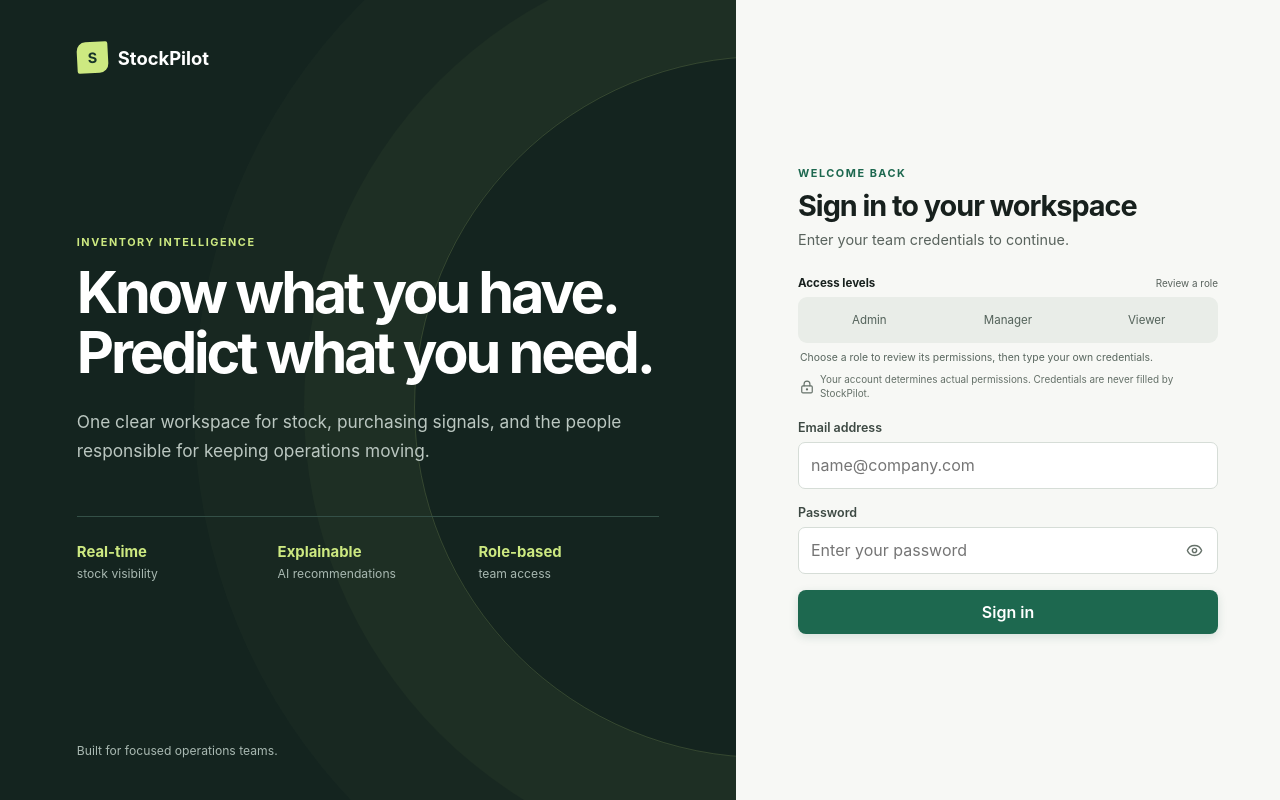
Test: Login › keeps credentials empty while letting users review role permissions
Expected: the field labelled "Email address" is empty, 798,442 -> 1218,489
Expected: the password field labelled "Password" is empty, 798,527 -> 1218,574
Click the button "Manager".
click(1008, 320)  # box 941,301 -> 1075,339
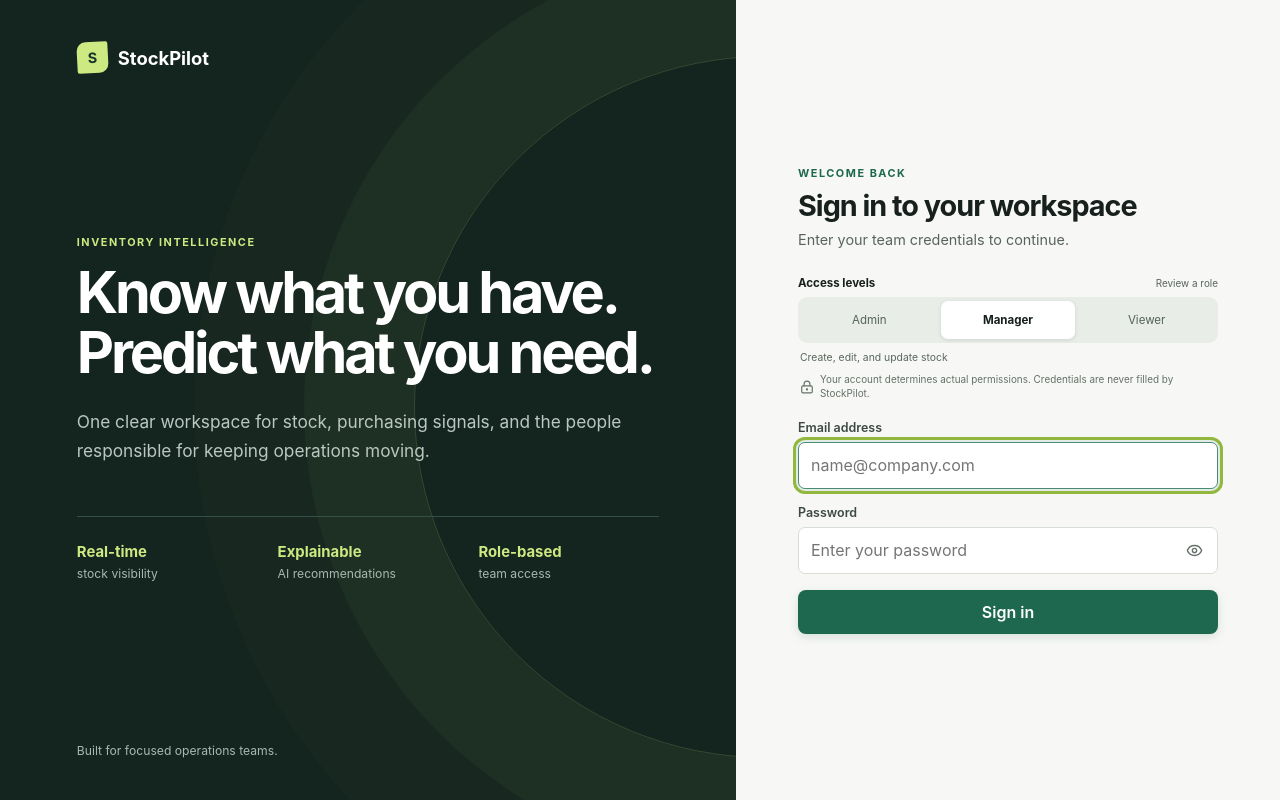
Expected: the field labelled "Email address" is empty, 798,442 -> 1218,489
Expected: the text "Create, edit, and update stock" is shown, 800,351 -> 948,364
Type "Private123!" into the password field labelled "Password".
click(1008, 550); type("Private123!")  # box 798,527 -> 1218,574
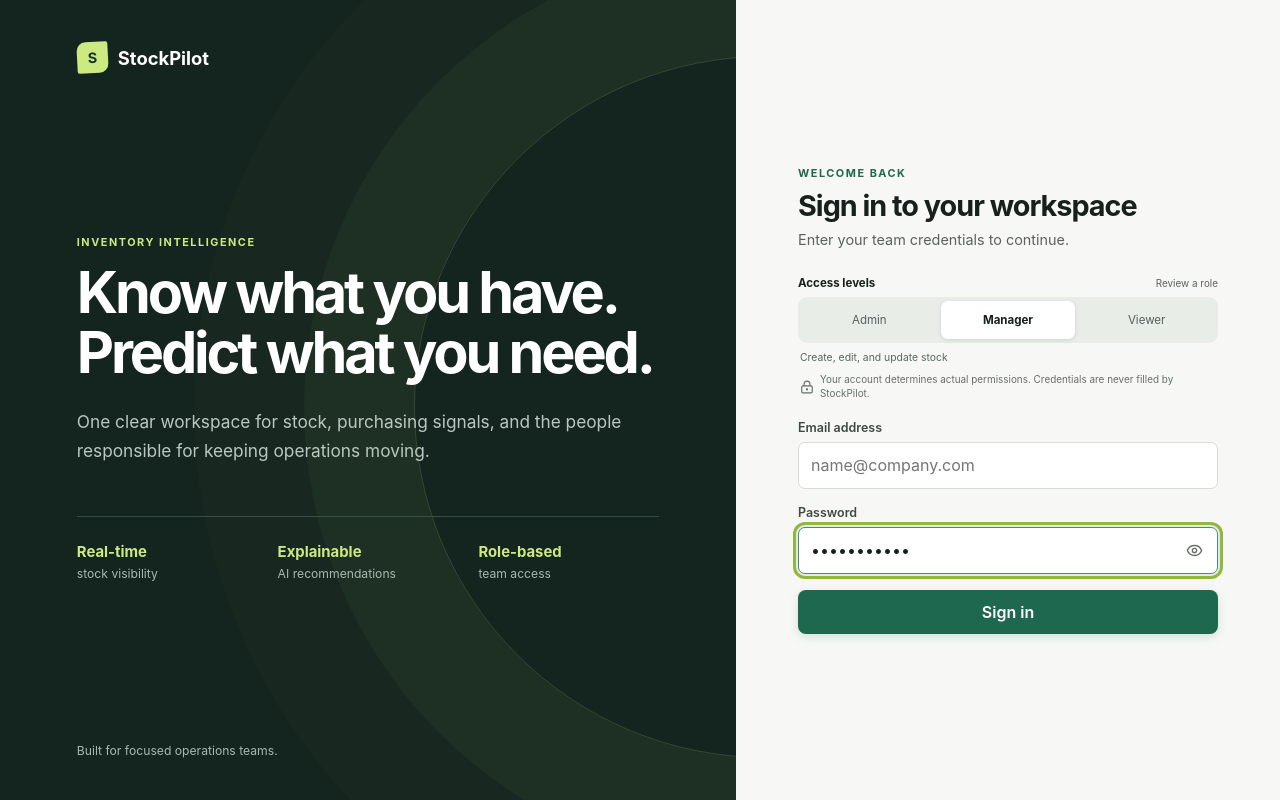
Click the button named "Show password".
click(1194, 551)  # box 1176,533 -> 1212,569
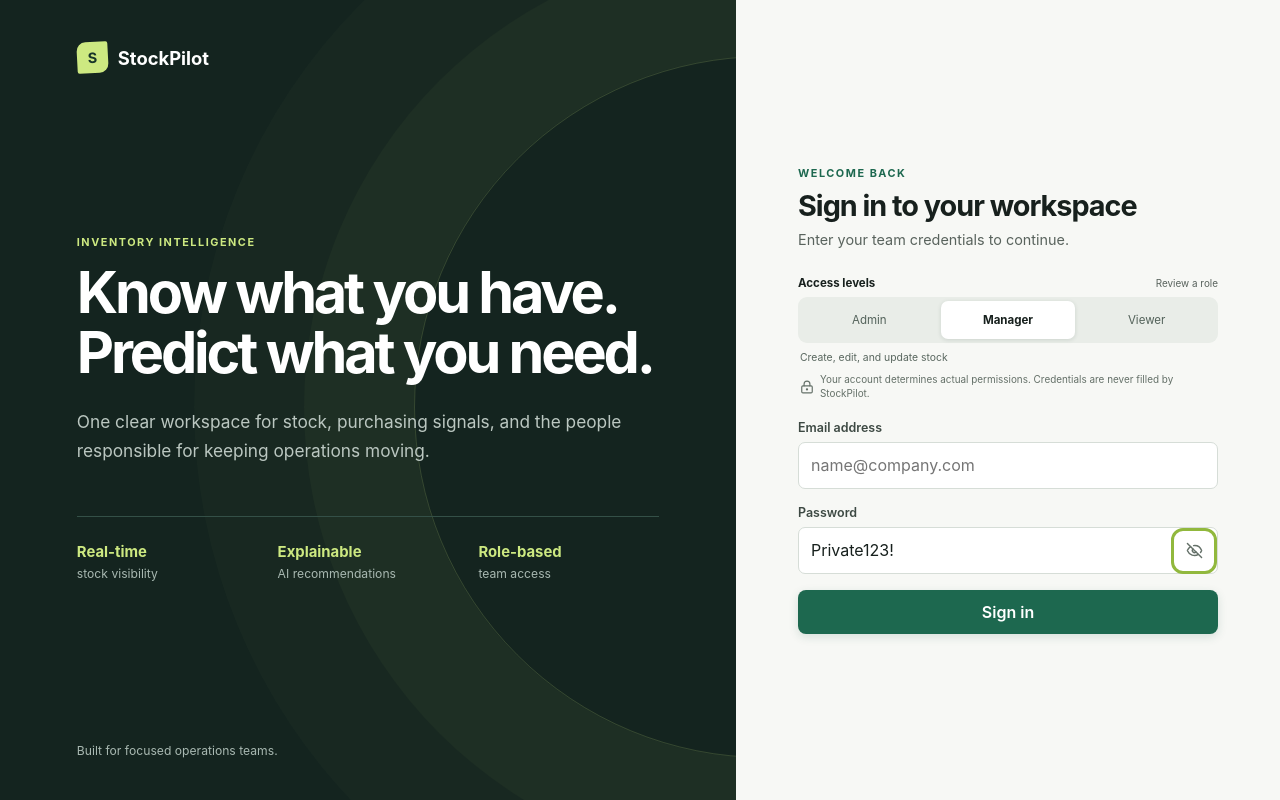
Expected: the field labelled "Password" shows its text, 798,527 -> 1218,574
